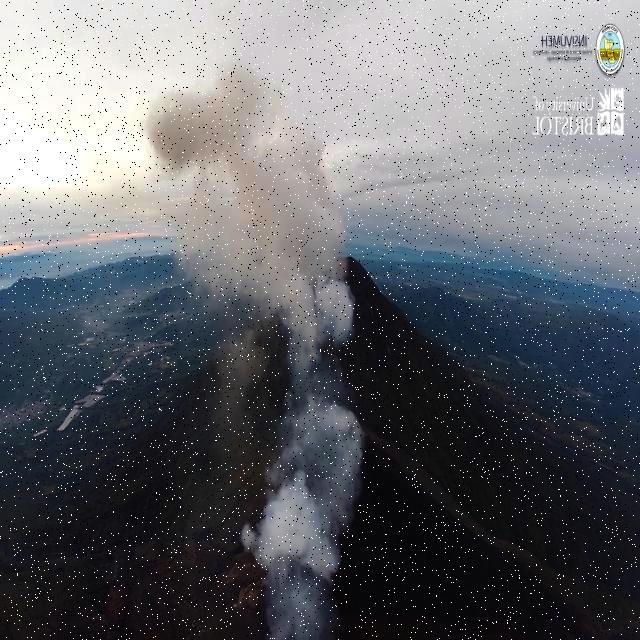Plume: (138, 55, 354, 640)
